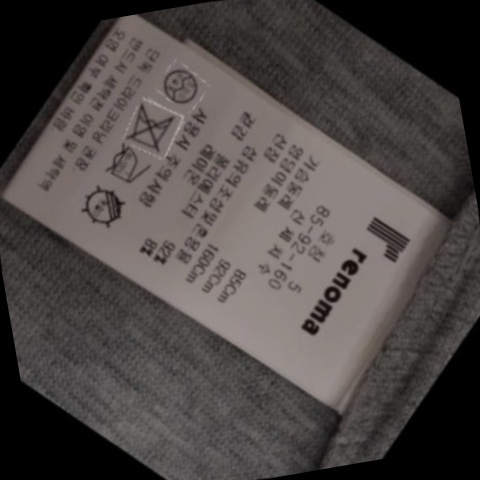DN_wash: (123, 100, 184, 155)
dry_clean_petrol_only: (158, 61, 206, 108)
iron_low: (99, 142, 154, 191)
line_dry_in_shade: (78, 182, 136, 233)
